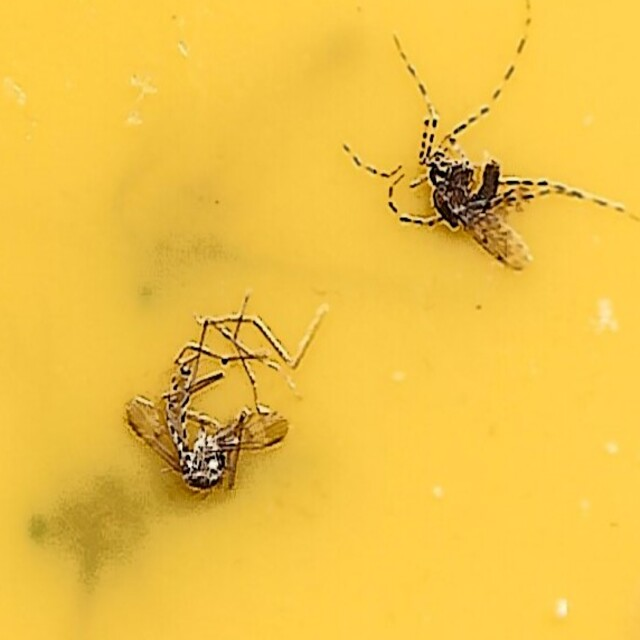Nematocera: (112, 360, 289, 499), (418, 141, 528, 274)
